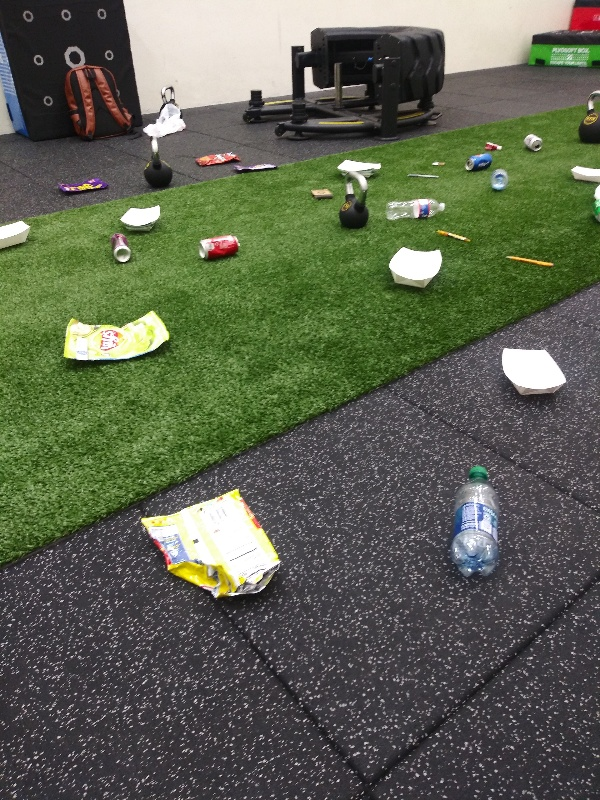bag: (135, 480, 286, 607), (58, 304, 174, 368), (53, 174, 110, 195), (189, 149, 243, 168), (237, 159, 280, 177)
bottle: (438, 460, 507, 583), (380, 196, 452, 224), (488, 166, 513, 192)
can: (192, 234, 245, 259), (105, 231, 138, 265), (461, 150, 496, 173), (519, 131, 547, 154)
plate: (494, 344, 569, 401), (383, 242, 445, 291), (116, 201, 163, 233), (1, 215, 34, 256), (329, 154, 386, 177), (564, 162, 600, 186)
